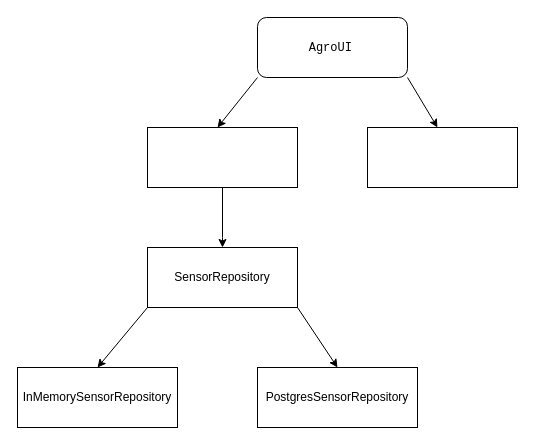
The diagram is 535 pixels wide and 445 high, and some of its shapes have lost their labels. The shapes that lost their labels are listed below. From the top down, each one's centre as x and y in pixels, then its label:
point 222,157: SensorService
point 442,157: SensorReading
